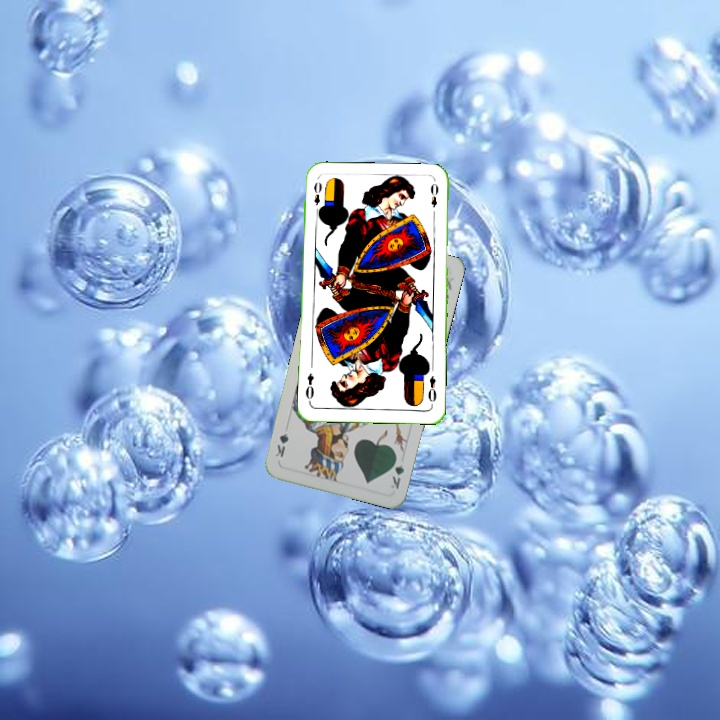EO: (310, 178, 324, 217), (424, 372, 439, 408)
GK: (386, 452, 407, 492)
